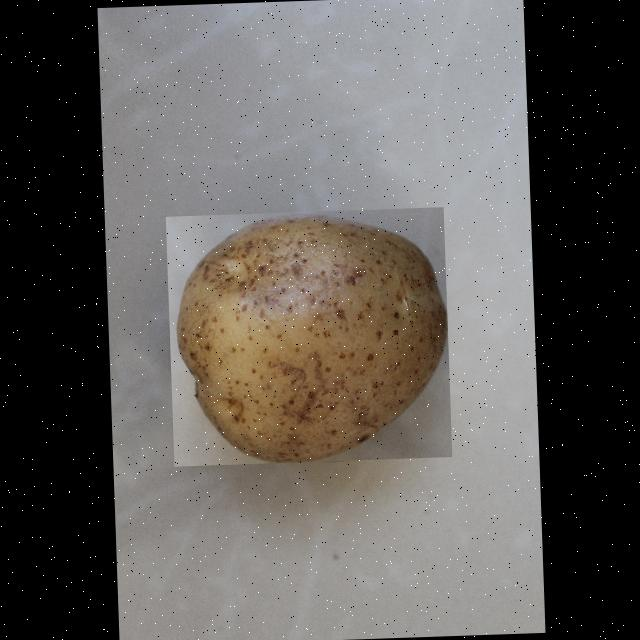Diseased-fungal potato: (164, 206, 451, 466)
